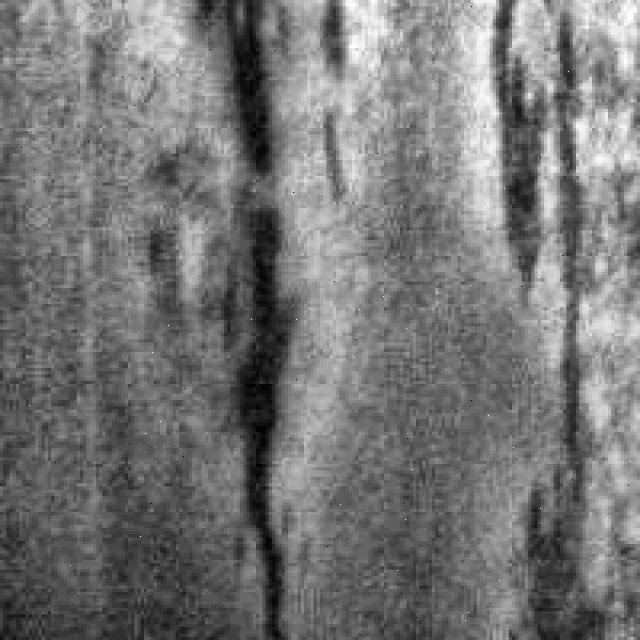Patches: (189, 3, 304, 624), (490, 0, 609, 470), (304, 0, 365, 208)
